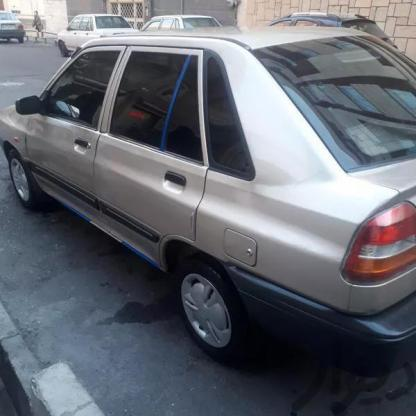Car: (0, 28, 416, 379), (46, 7, 134, 64), (130, 12, 224, 57), (0, 9, 27, 47)
